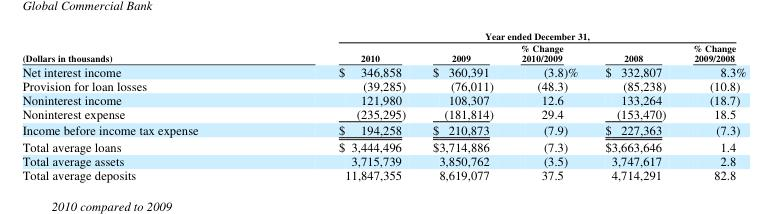table: (21, 29, 745, 182)
table column: (21, 29, 267, 182), (267, 29, 418, 182), (418, 29, 506, 182), (590, 29, 678, 182), (506, 29, 590, 182), (678, 29, 745, 182)
table column header: (21, 29, 745, 63)
table row: (21, 41, 745, 63), (21, 120, 745, 137), (21, 137, 745, 153), (21, 105, 745, 120), (21, 167, 745, 182), (21, 63, 745, 77), (21, 77, 745, 91), (21, 91, 745, 105), (21, 153, 745, 167), (21, 29, 745, 41)
table spanning cell: (21, 29, 267, 63), (267, 29, 745, 41)
